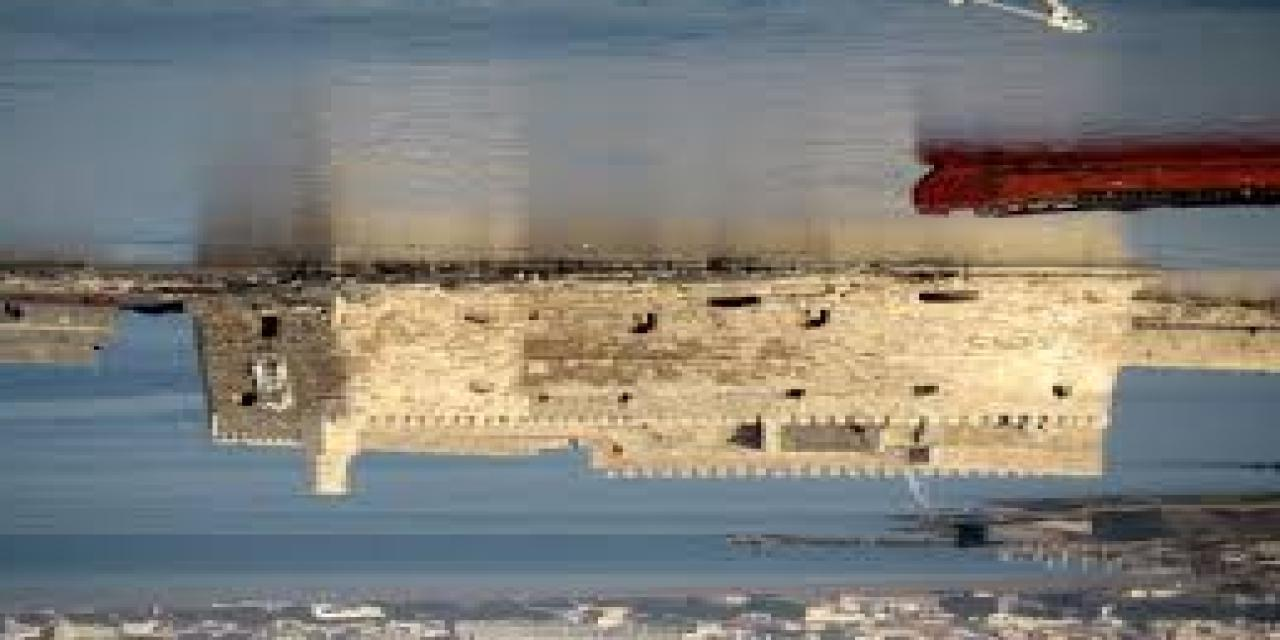Kules: (193, 265, 1106, 476)
